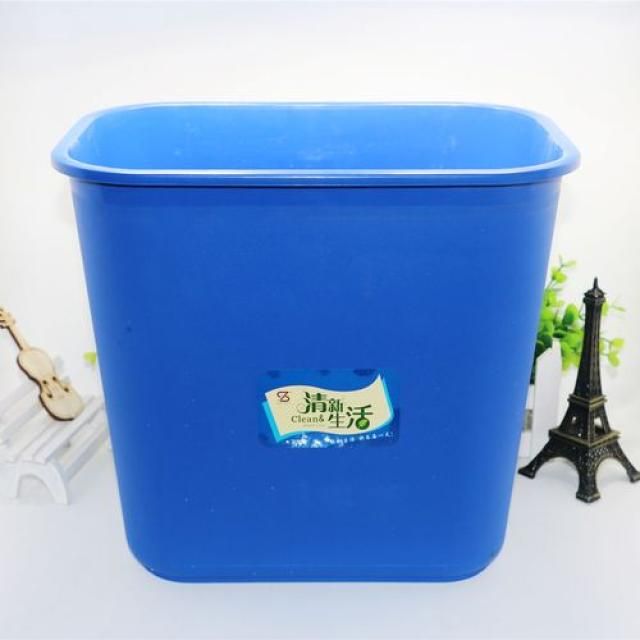dustbin: (47, 95, 585, 586)
